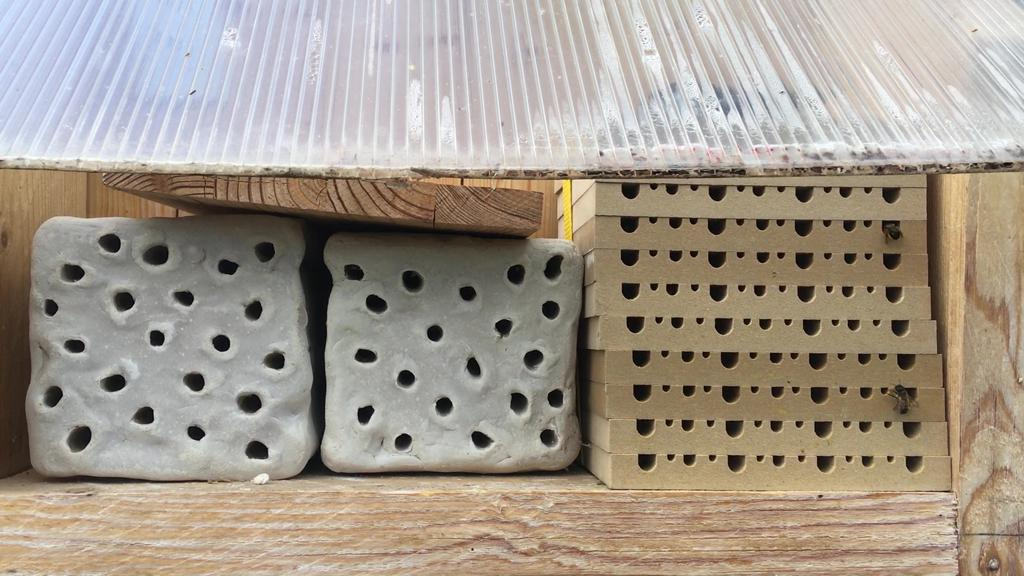bee: (873, 211, 908, 246)
